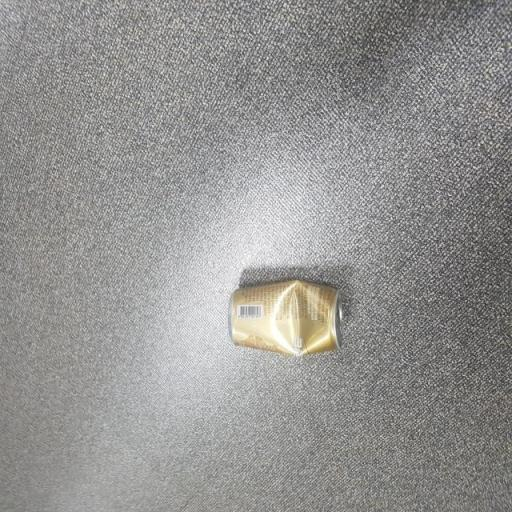metal: (216, 268, 354, 372)
